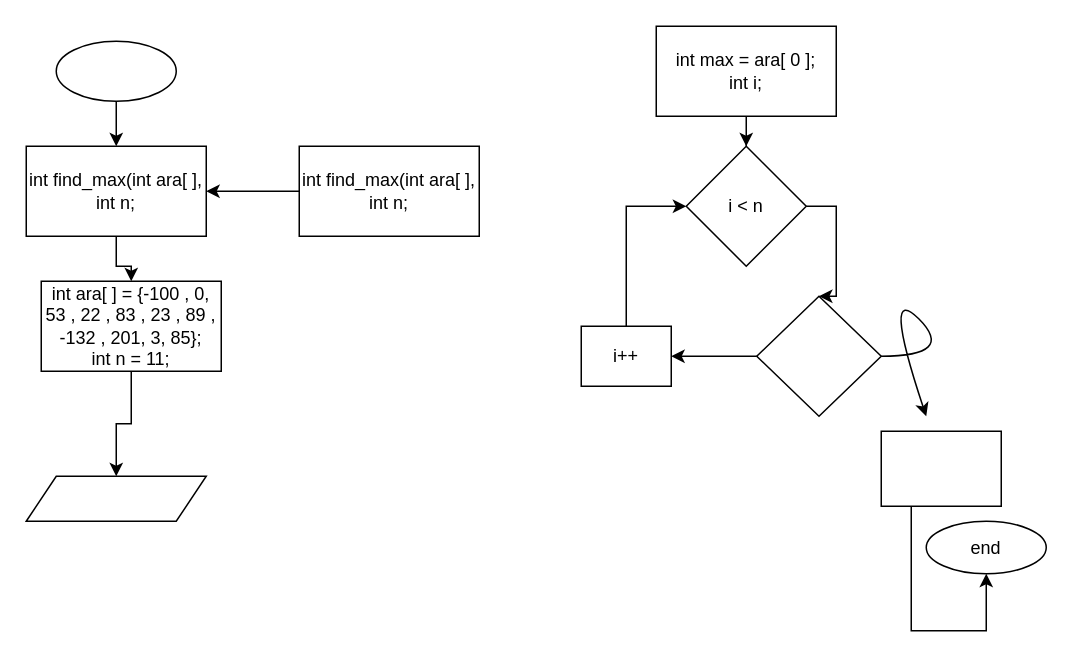
This 1073x669 diagram has some shape labels left out. The centre of each missing label's shape, as x and y in pixels:
(ara[i] > max): point (818, 355)
max = ara [i]: point (940, 468)
printf("%d", max);: point (115, 498)
start: point (115, 70)
